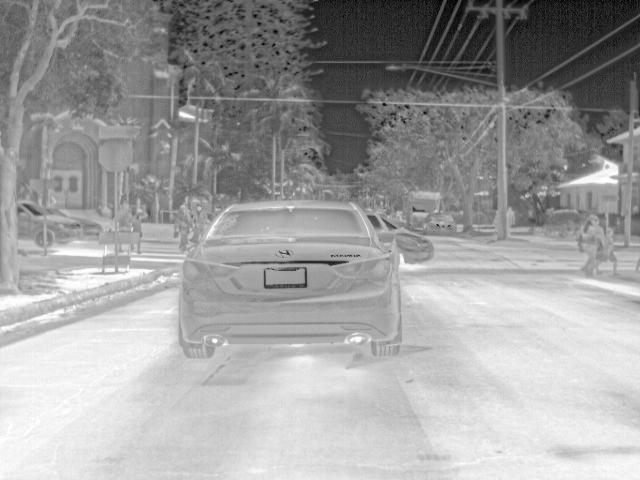car: (177, 197, 403, 360), (16, 198, 103, 246), (370, 213, 437, 262), (423, 212, 458, 236)
person: (579, 216, 607, 276), (171, 194, 195, 252), (597, 226, 623, 276), (133, 207, 149, 254), (116, 198, 135, 232), (504, 205, 518, 230)
